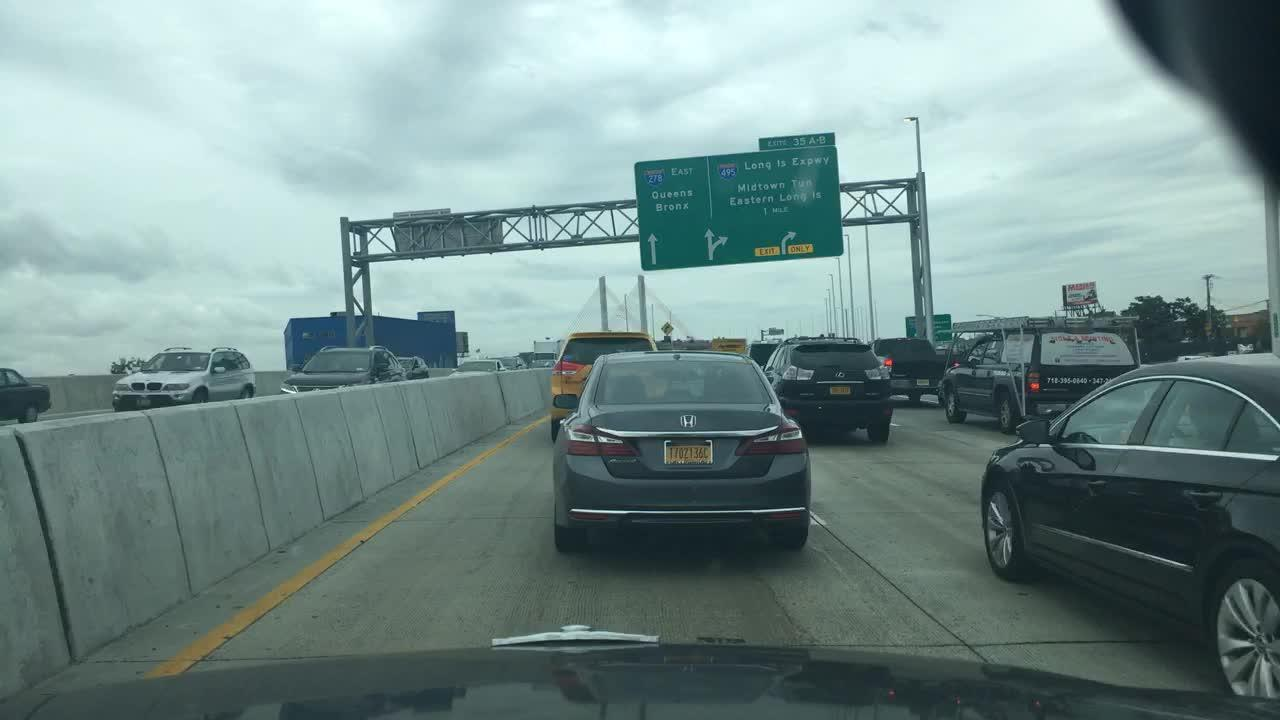Honda: (673, 406, 704, 433)
lexus: (832, 368, 851, 383)
